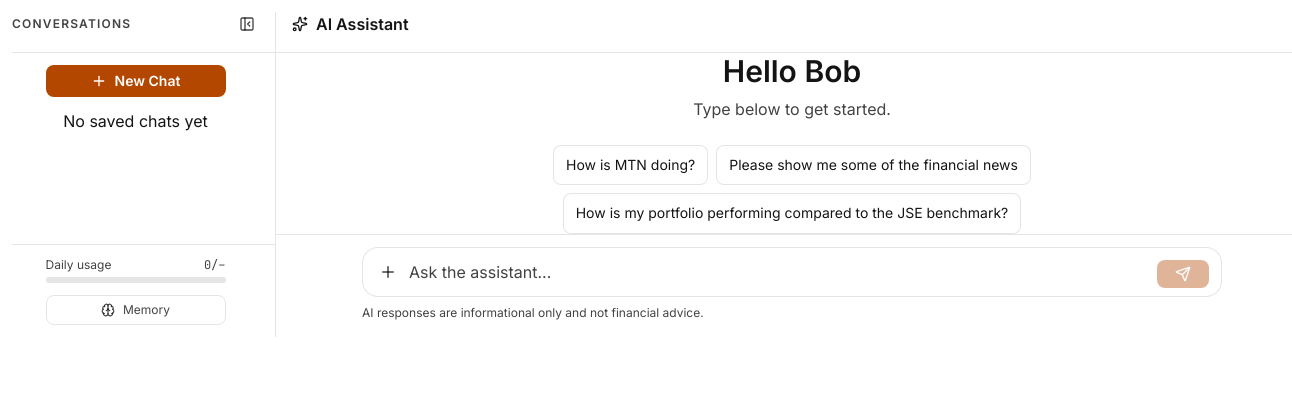
Test: AIChat › when the user sends a message › renders the assistant's reply after the thinking delay
The width and height of the screenshot is (1292, 396).
In the text box with placeholder "Ask the assistant...": (779, 272) top-left (409, 256), bottom-right (1149, 288), type "hi"
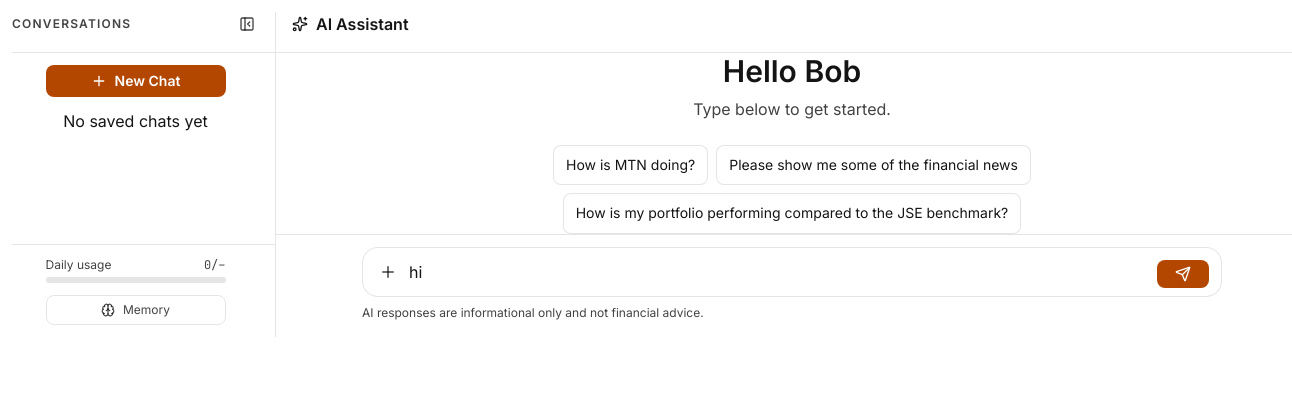
Click the button named "send": (1183, 274) top-left (1157, 260), bottom-right (1209, 288)
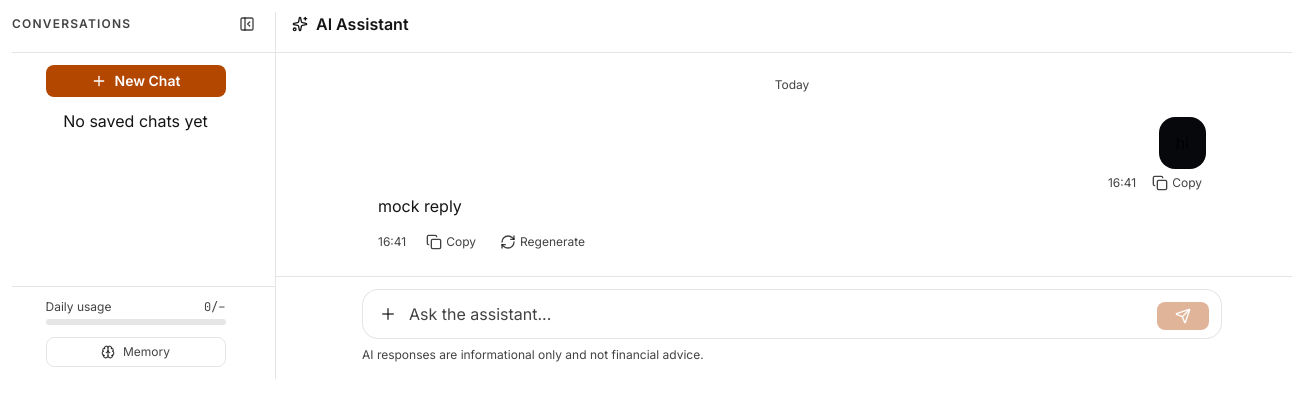
Now the text "mock reply" is shown, box top-left (378, 196), bottom-right (462, 216)
